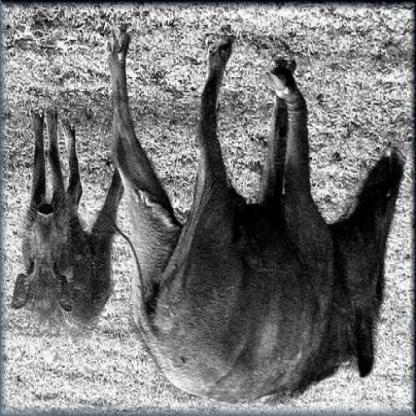boar: (102, 1, 415, 416)
